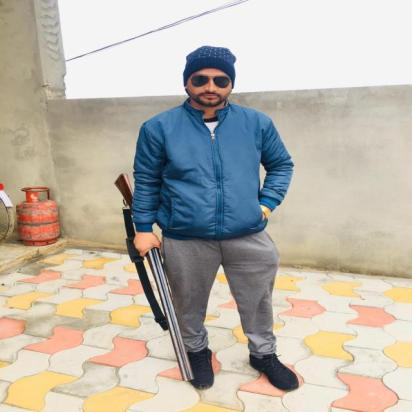Gun: (110, 172, 198, 384)
